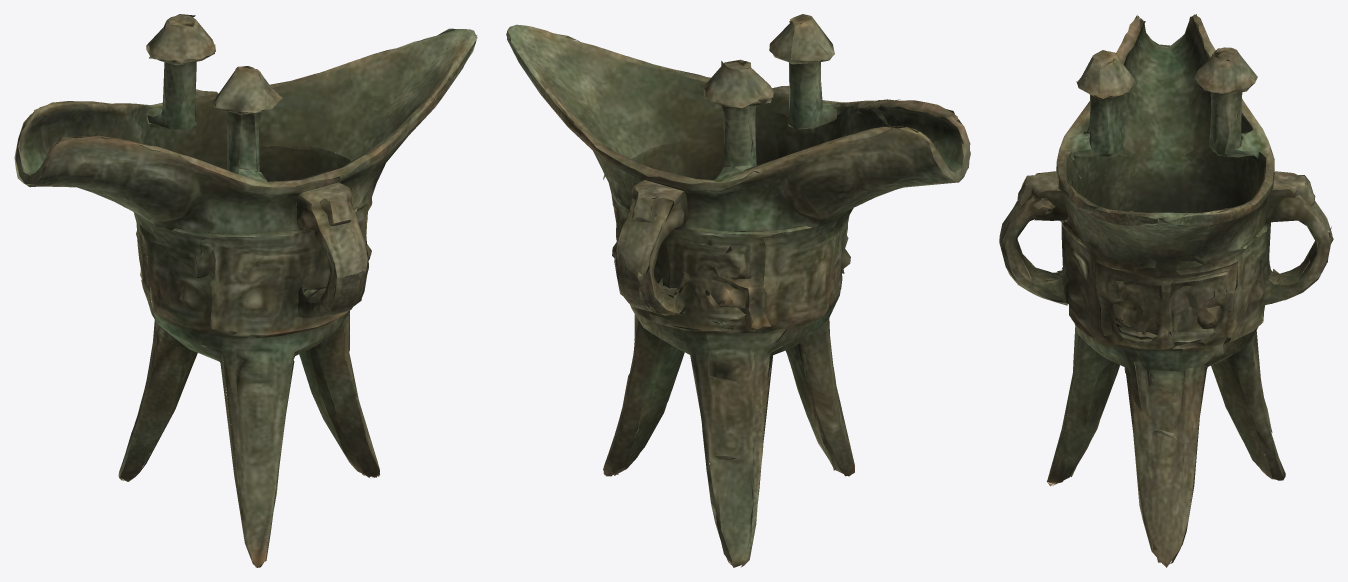
The model's file is B6-bronze-jue.glb.
3 renders of one model, left to right at view 1: azimuth 30°, elevation 25°; view 2: azimuth 150°, elevation 25°; view 3: azimuth 270°, elevation 25°, orthographic. The views are drawn at different scales.
Parts seen in each view (by area): view 1: Prop_B6; view 2: Prop_B6; view 3: Prop_B6.
Part boxes in pixels (x1,y1,x2,y2): Prop_B6: (14,14,477,567); Prop_B6: (506,14,970,567); Prop_B6: (999,14,1333,567).
Bounding box in the file's own units: 1.01 × 1.01 × 0.6913.
Materials: 1 (1 with a texture image).
